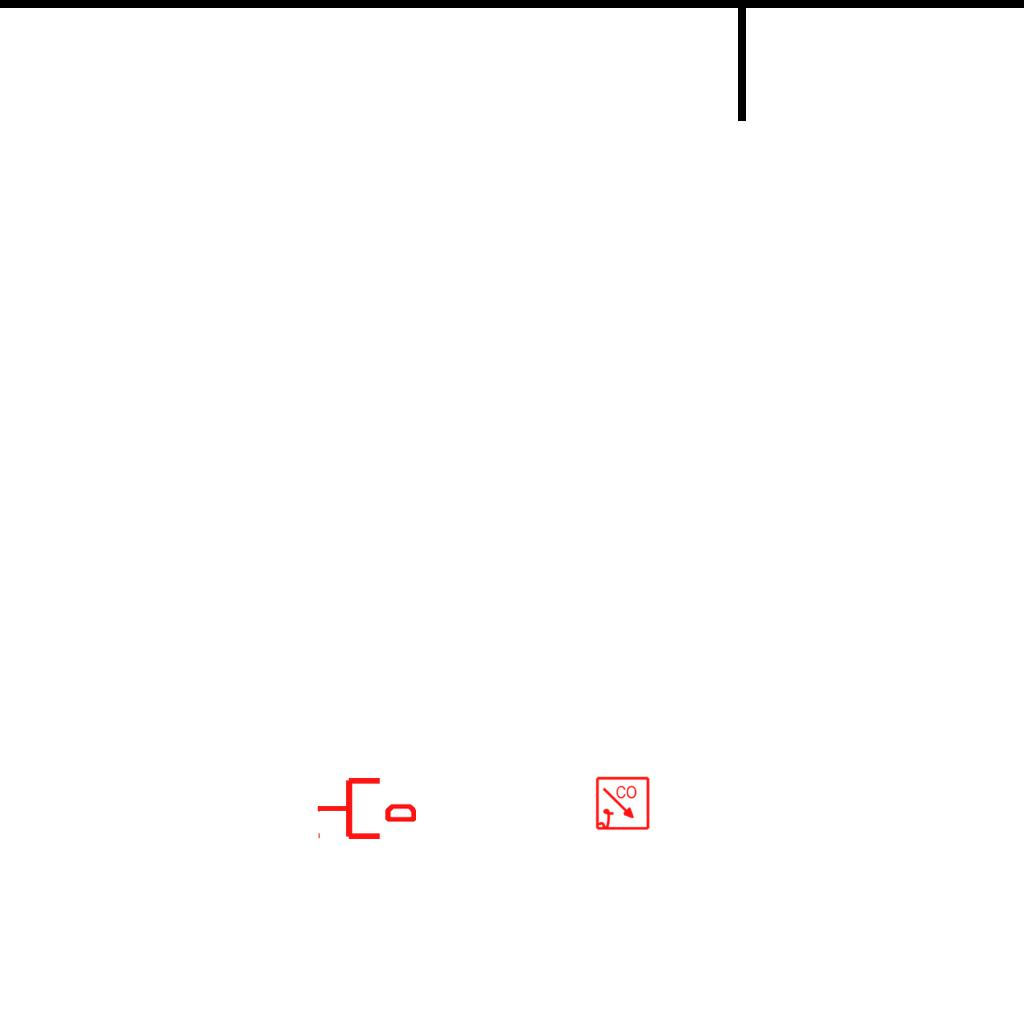Datenanschluss_einfach: (316, 774, 416, 843)
ROA_Rauchmelder_optisch_mit_Signalgeber_(Sockelsirene): (595, 776, 651, 832)
